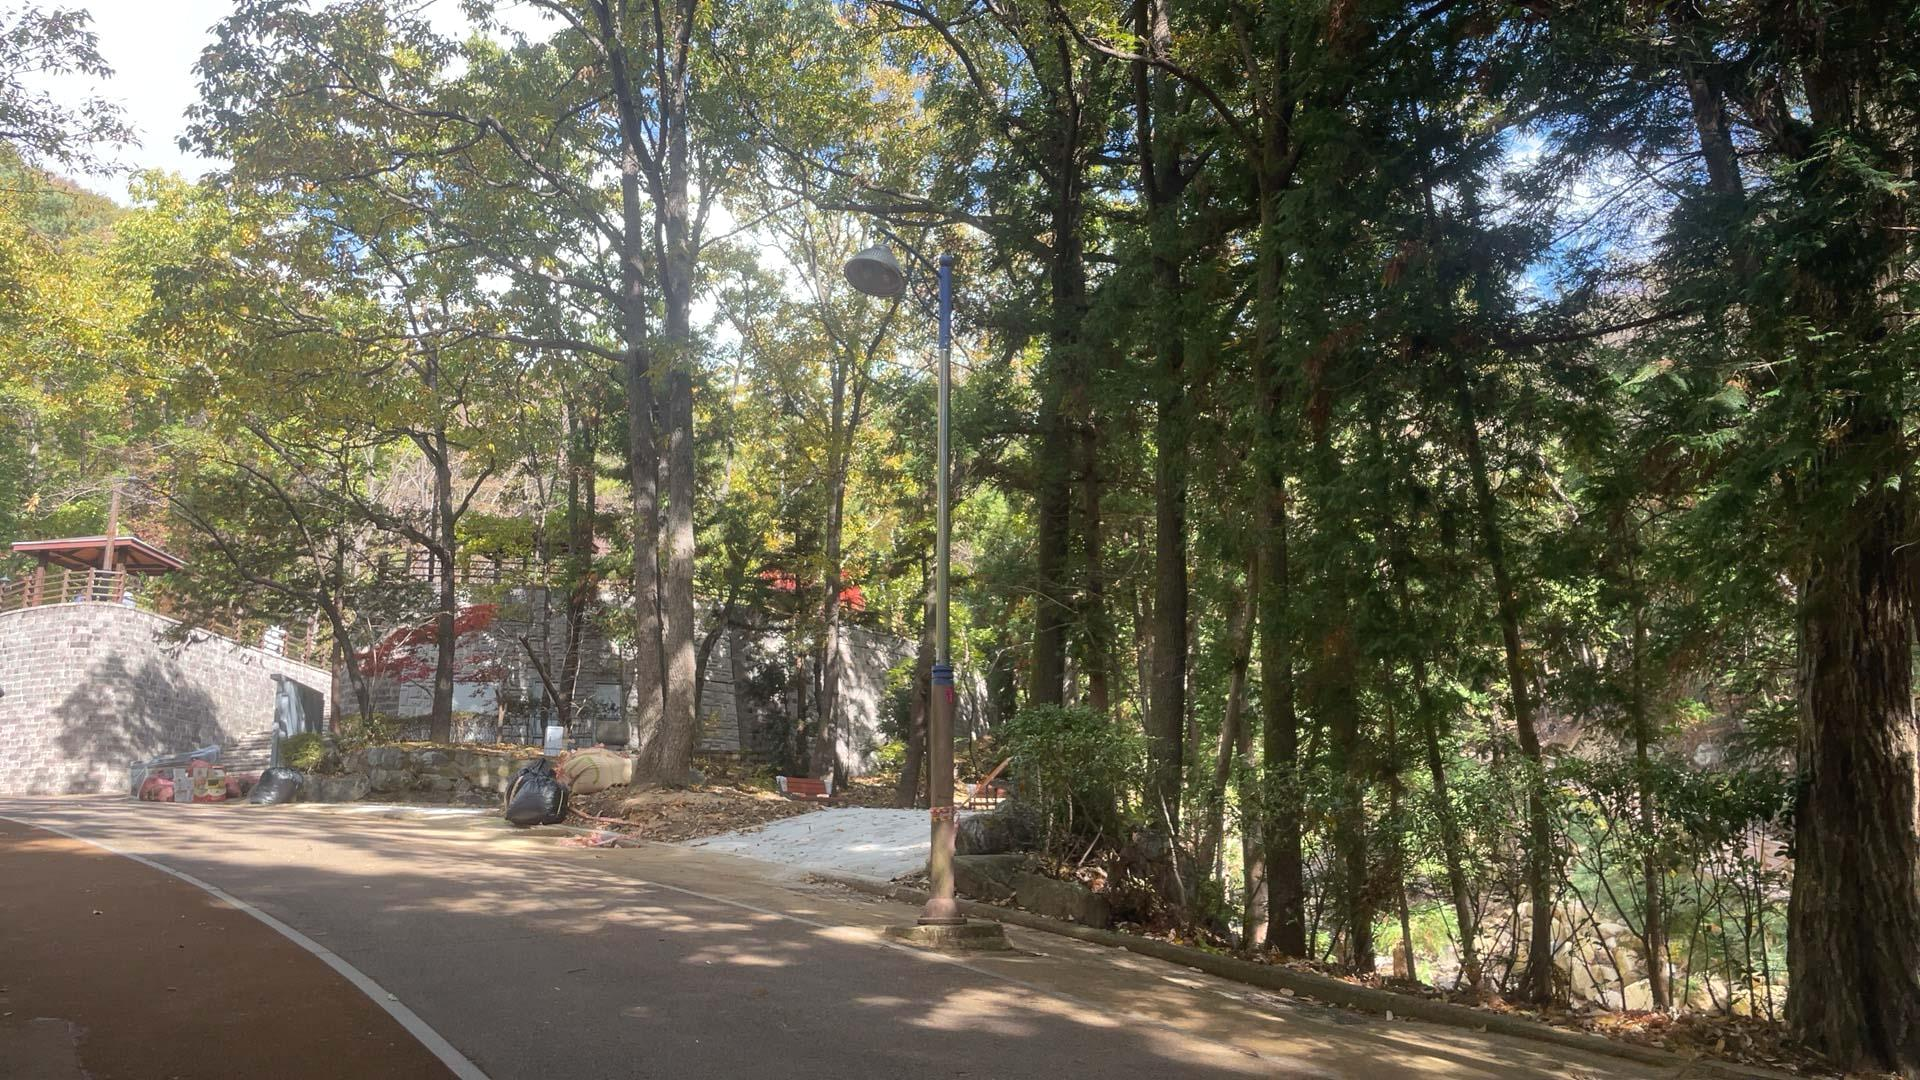black_bag: (498, 756, 568, 825), (247, 765, 305, 804)
